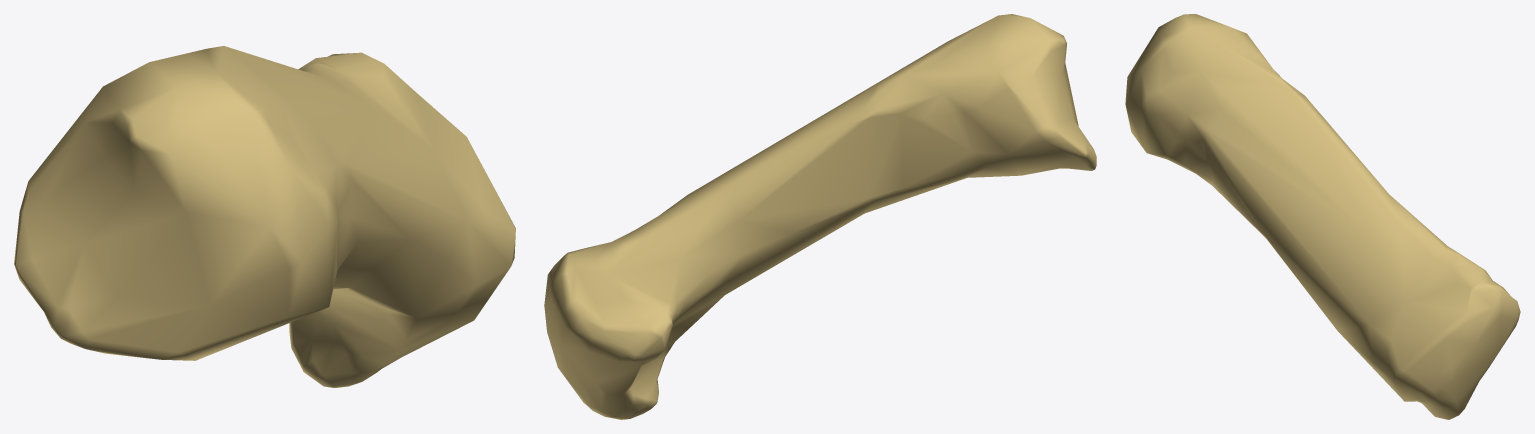
The picture shows the model from 3 angles, left to right: view 1: azimuth 30°, elevation 25°; view 2: azimuth 150°, elevation 25°; view 3: azimuth 270°, elevation 25°; orthographic projection. The views are drawn at different scales.
Parts seen in each view (by area): view 1: 左侧第一掌骨; view 2: 左侧第一掌骨; view 3: 左侧第一掌骨.
Part boxes in pixels (x1,y1,x2,y2): 左侧第一掌骨: [14, 46, 515, 387]; 左侧第一掌骨: [544, 14, 1096, 419]; 左侧第一掌骨: [1125, 14, 1520, 419].
Bounding box in the file's own units: 0.057 × 0.0464 × 0.0565.
